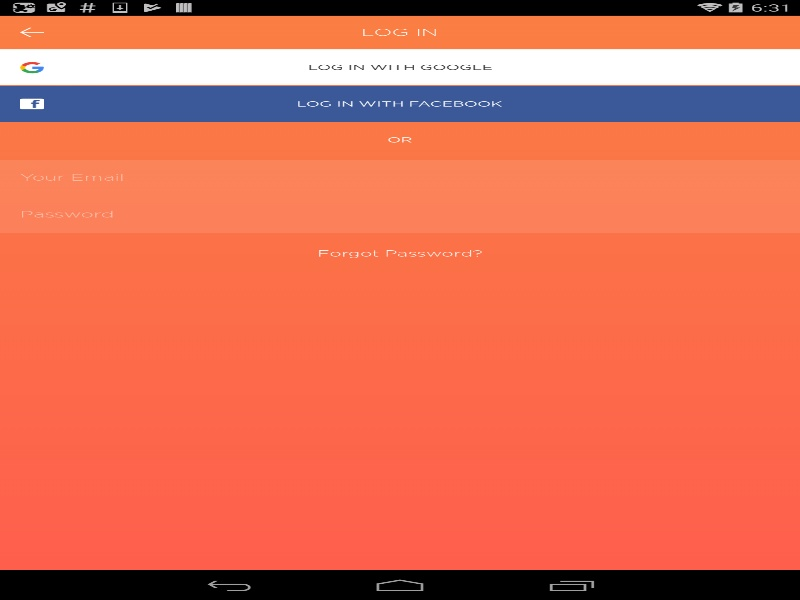Input: (0, 195, 800, 232), (0, 159, 800, 194)
